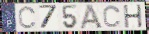5: (61, 4, 79, 30)
7: (38, 5, 59, 31)
A: (80, 4, 104, 30)
C: (102, 5, 122, 29), (18, 6, 37, 30)
H: (123, 4, 144, 29)
